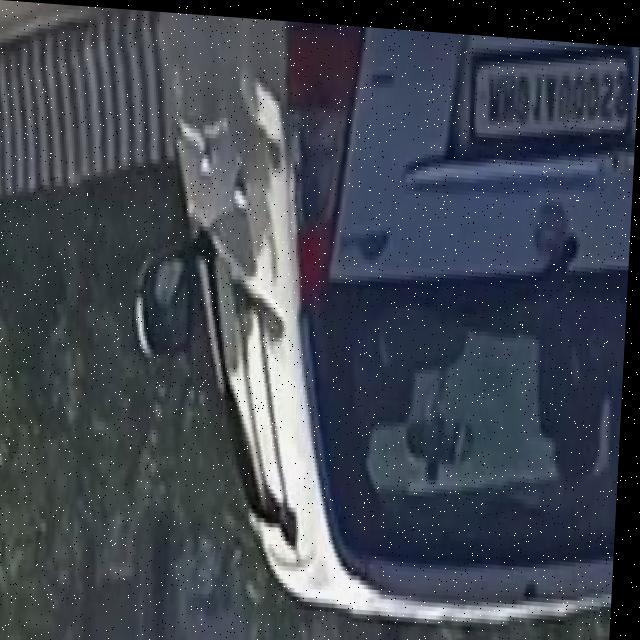plate: (465, 28, 636, 151)
